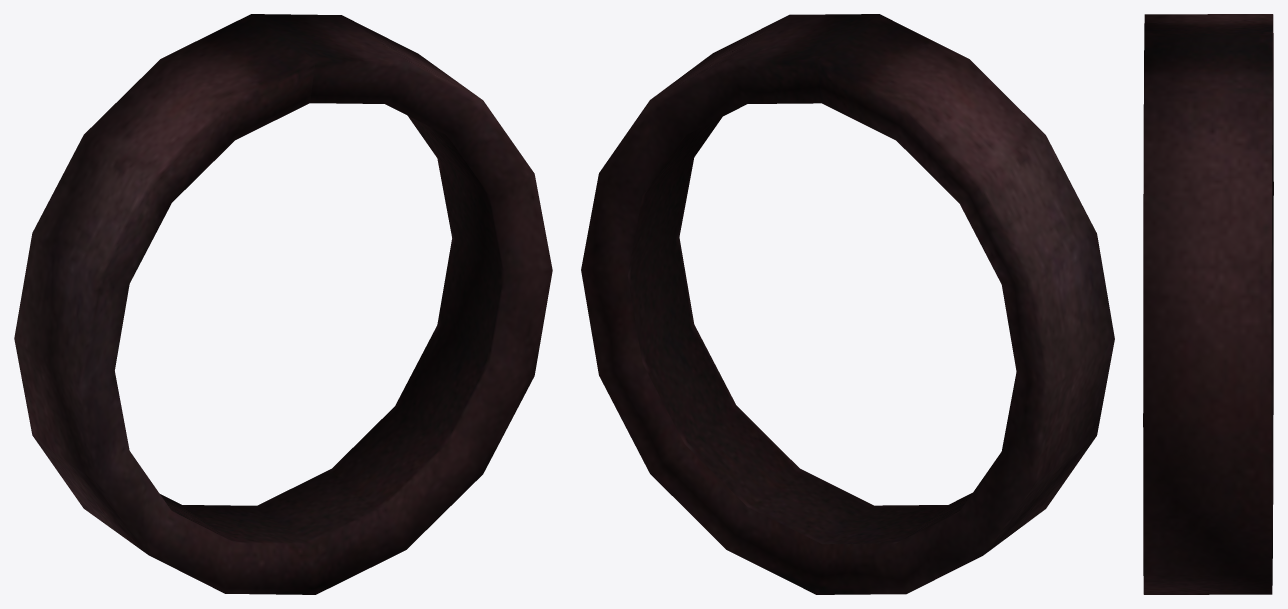
The model's file is DynamoAnilloInt.fbx.
3 renders of one model, left to right at view 1: azimuth 30°, elevation 25°; view 2: azimuth 150°, elevation 25°; view 3: azimuth 270°, elevation 25°, orthographic.
Parts seen in each view (by area): view 1: Sphere.012; view 2: Sphere.012; view 3: Sphere.012.
Part boxes in pixels (bbox=[...]): Sphere.012: bbox=[14, 14, 552, 594]; Sphere.012: bbox=[581, 14, 1114, 594]; Sphere.012: bbox=[1143, 14, 1273, 594].
Bounding box in the file's own units: 1.66 × 1.79 × 0.3933.
